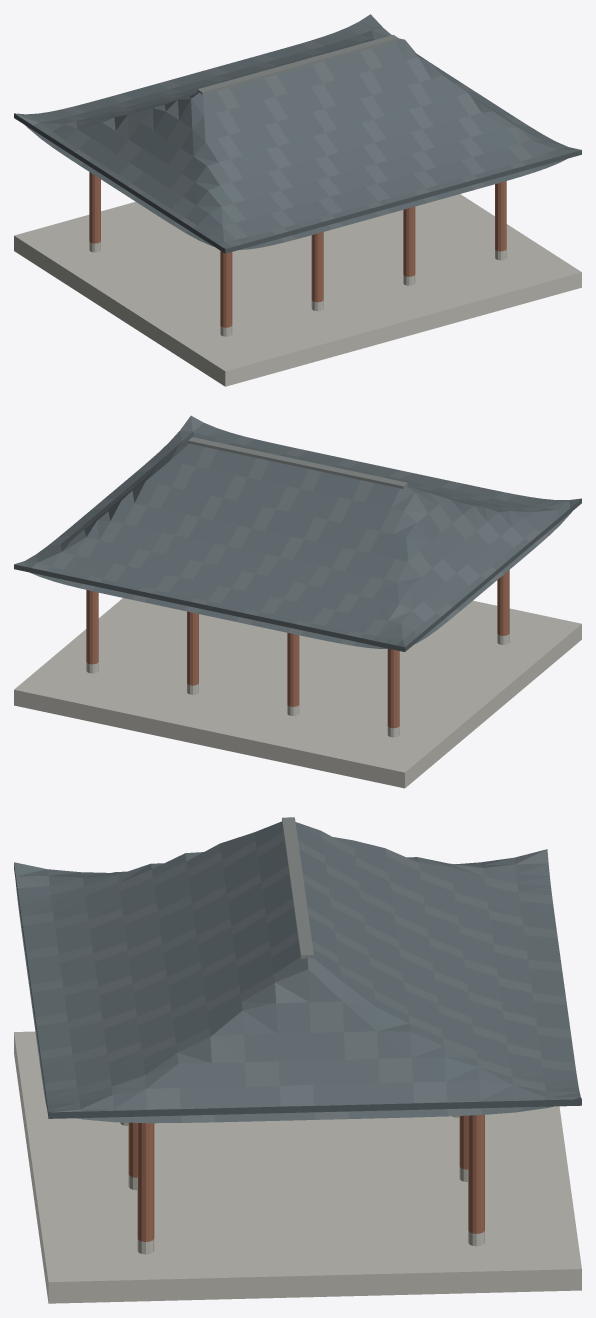
File: civic-c4d6ba8f-8676-4b54-a52c-52bee8ad767b.glb
3 views of the same model, one above another, from view 1: azimuth 30°, elevation 25°; view 2: azimuth 150°, elevation 25°; view 3: azimuth 270°, elevation 25° (orthographic). The views are drawn at different scales.
Parts seen in each view (by area): view 1: civic-c4d6ba8f-8676-4b54-a52c-52bee8ad767b; view 2: civic-c4d6ba8f-8676-4b54-a52c-52bee8ad767b; view 3: civic-c4d6ba8f-8676-4b54-a52c-52bee8ad767b.
Boxes of the visible parts, box(x1,y1,x2,y2) form: civic-c4d6ba8f-8676-4b54-a52c-52bee8ad767b: box(14, 14, 581, 386); civic-c4d6ba8f-8676-4b54-a52c-52bee8ad767b: box(14, 415, 581, 788); civic-c4d6ba8f-8676-4b54-a52c-52bee8ad767b: box(14, 817, 581, 1303).
Bounding box in the file's own units: 11.86 × 6 × 10.81.
